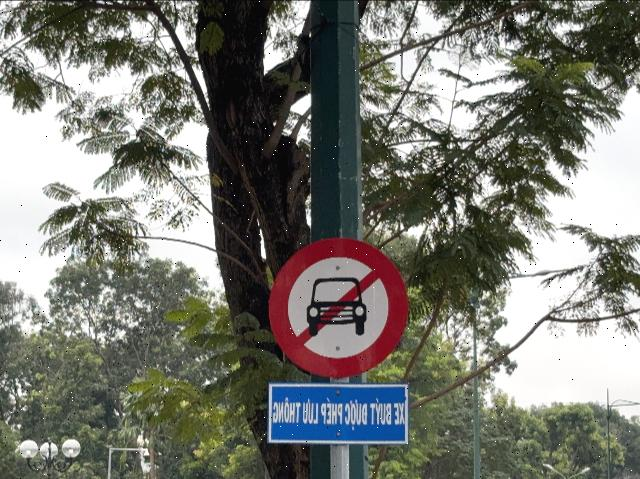cam-o-to: (268, 237, 408, 379)
